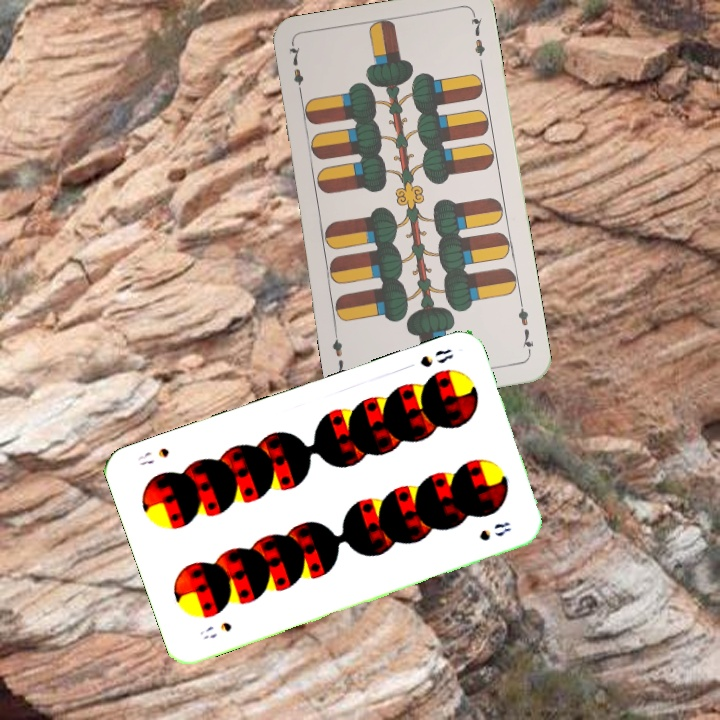E7: (514, 298, 537, 356), (285, 41, 307, 100)
S8: (416, 344, 456, 370), (195, 618, 234, 642)
